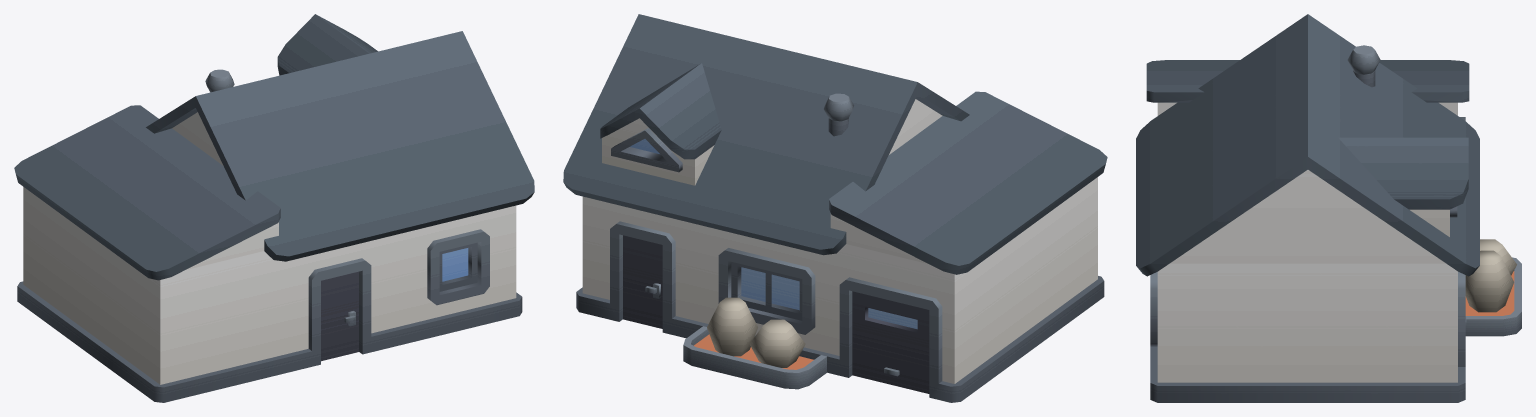
Rendered from sub-building-type-i.glb.
3 views of the same model, side by side, from view 1: azimuth 30°, elevation 25°; view 2: azimuth 150°, elevation 25°; view 3: azimuth 270°, elevation 25° (orthographic). The views are drawn at different scales.
Parts seen in each view (by area): view 1: building-type-i; view 2: building-type-i; view 3: building-type-i.
Part boxes in pixels (x1,y1,x2,y2): building-type-i: [14, 14, 534, 402]; building-type-i: [563, 14, 1107, 402]; building-type-i: [1136, 14, 1521, 402].
Size of the model in its own units: 1.29 by 0.7375 by 1.03.
Materials: 1 (1 with a texture image).
